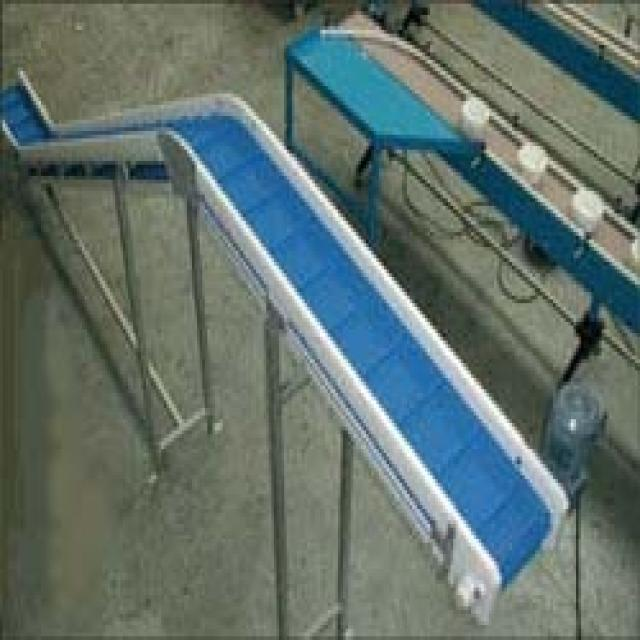Convoyeur: (1, 66, 579, 626)
